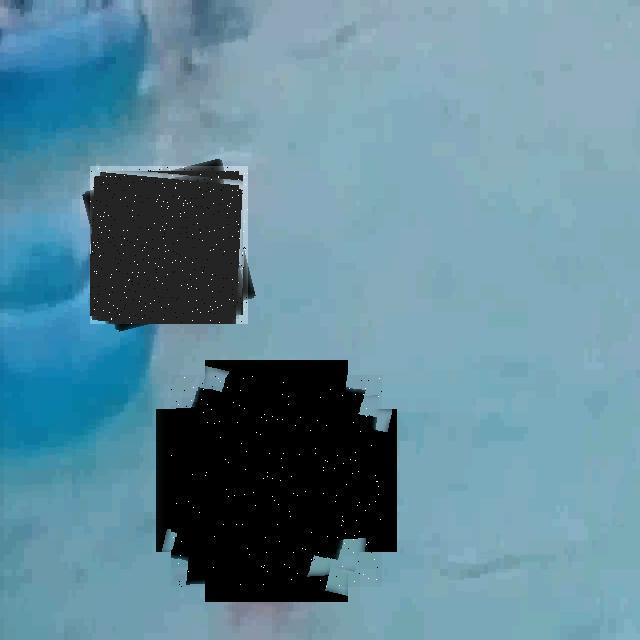Out of Water: (90, 166, 248, 324)
swimming: (171, 375, 382, 587)
